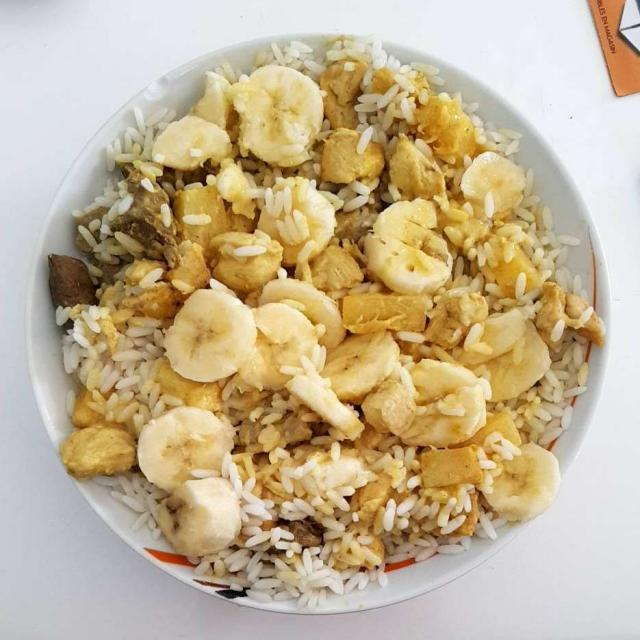banana: (140, 63, 524, 556)
chicken-curry: (64, 61, 598, 533)
rice: (87, 53, 570, 583)
